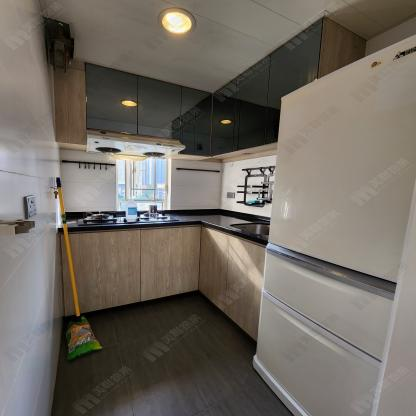Cupboard: (89, 16, 322, 156), (65, 225, 263, 348)
Exhaust Hood: (86, 131, 183, 159)
Stove: (80, 212, 175, 225)
